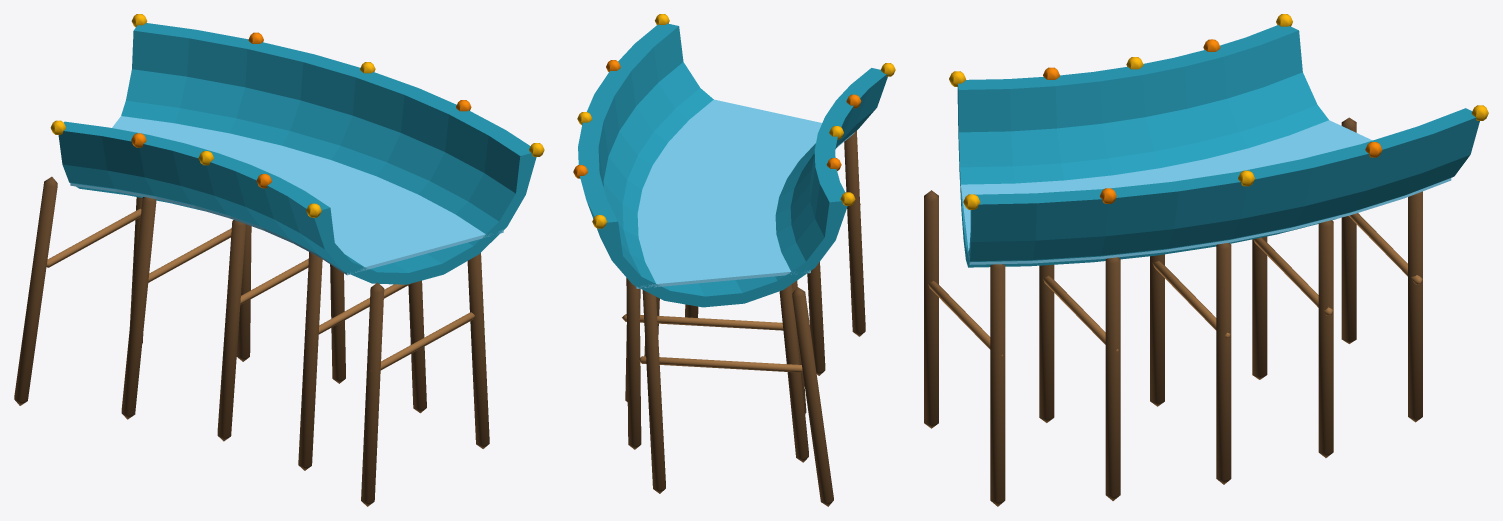
File: W5_Slide_Curve45.fbx
3 renders of one model, left to right at view 1: azimuth 30°, elevation 25°; view 2: azimuth 150°, elevation 25°; view 3: azimuth 270°, elevation 25°, orthographic. The views are drawn at different scales.
Parts seen in each view (by area): view 1: W5_Slide_Curve45; view 2: W5_Slide_Curve45; view 3: W5_Slide_Curve45.
Part boxes in pixels (box(x1,y1,x2,y2)): W5_Slide_Curve45: box(14, 14, 544, 506); W5_Slide_Curve45: box(573, 14, 895, 506); W5_Slide_Curve45: box(924, 14, 1488, 506).
Size of the model in its own units: 11.49 by 9.39 by 14.34.
